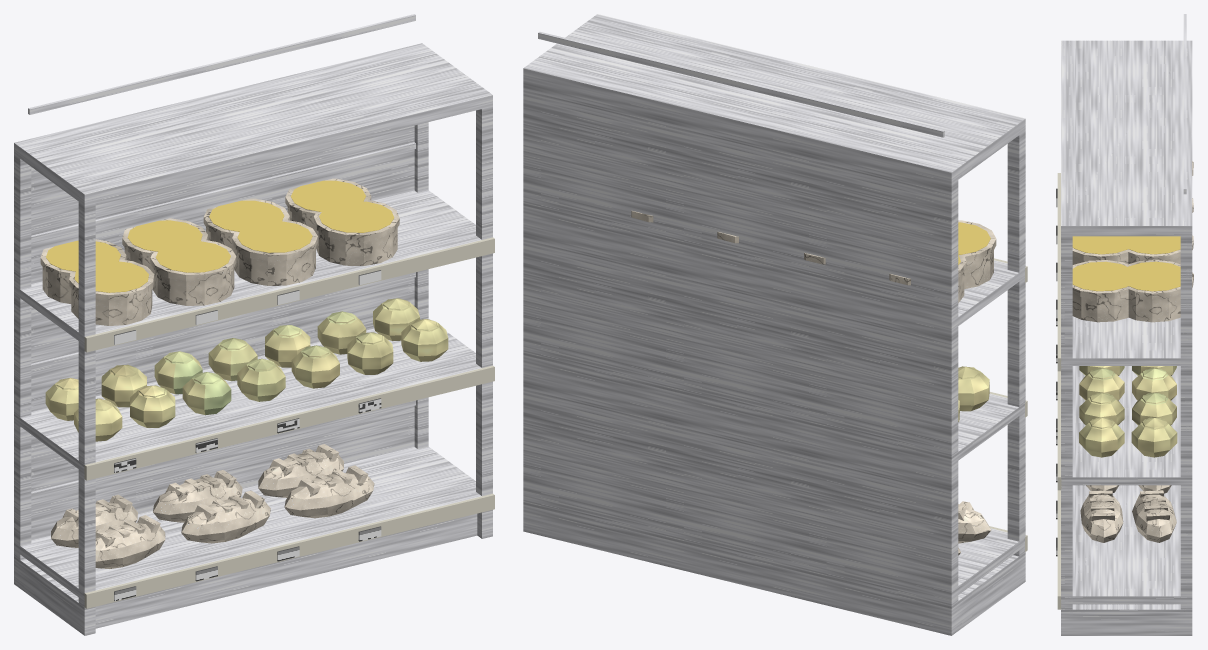
The picture shows the model from 3 angles, left to right: view 1: azimuth 30°, elevation 25°; view 2: azimuth 150°, elevation 25°; view 3: azimuth 270°, elevation 25°; orthographic projection. The views are drawn at different scales.
Visible parts, largest first — view 1: metallo_003, metallo_001, metallo_000, liscio_005, metallo_004, metallo_002, crosta_019, crosta_015, crosta_011, crosta_058, crosta_070, crosta_064 (+39 smaller); view 2: metallo_001, metallo_003, metallo_000, metallo_002, metallo_004, erba_023, crosta_011, liscio_054, crosta_052; view 3: metallo_003, metallo_000, metallo_004, metallo_001, liscio_005, liscio_072, crosta_019, liscio_069, crosta_017, crosta_070, crosta_067, erba_045 (+22 smaller).
Part boxes in pixels (x1,y1,x2,y2): metallo_003: (14,43,492,601); metallo_001: (14,44,422,585); metallo_000: (14,43,492,635); liscio_005: (84,237,494,608); metallo_004: (17,513,477,631); metallo_002: (28,14,415,498); crosta_019: (284,473,374,518); crosta_015: (181,498,270,543); crosta_011: (95,523,165,568); crosta_058: (152,268,234,305); crosta_070: (316,228,397,265); crosta_064: (234,248,315,285); metallo_001: (523,68,954,634); metallo_003: (523,14,1025,599); metallo_000: (523,14,1025,635); metallo_002: (538,31,944,137); metallo_004: (955,555,1019,630); erba_023: (958,370,989,411); crosta_011: (958,504,991,543); liscio_054: (958,222,990,254); crosta_052: (964,250,993,288); metallo_003: (1061,40,1192,604); metallo_000: (1061,40,1192,635); metallo_004: (1069,604,1186,635); metallo_001: (1186,41,1192,635); liscio_005: (1057,173,1062,609); liscio_072: (1072,261,1136,291); crosta_019: (1080,490,1123,542); liscio_069: (1121,261,1180,291); crosta_017: (1132,490,1176,542); crosta_070: (1072,294,1128,322); crosta_067: (1128,295,1180,322); erba_045: (1131,419,1177,457).
Size of the model in its own units: 1.5 by 1.67 by 0.4721.
Materials: 16 (14 with a texture image).
